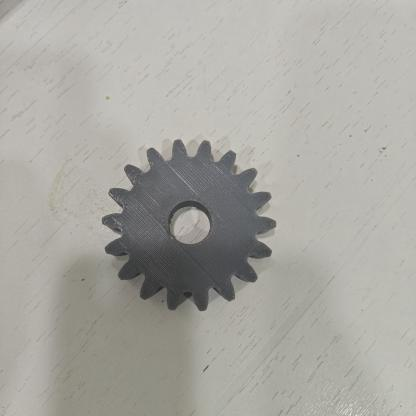gear: (102, 139, 276, 311)
